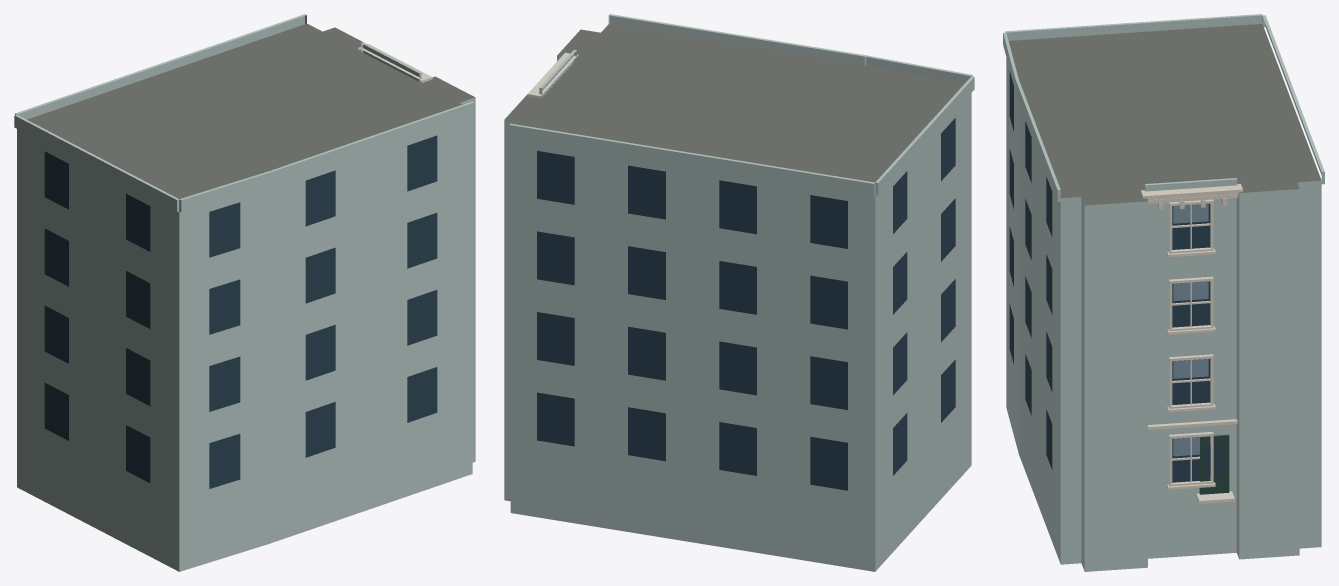
The picture shows the model from 3 angles, left to right: view 1: azimuth 30°, elevation 25°; view 2: azimuth 150°, elevation 25°; view 3: azimuth 270°, elevation 25°; orthographic projection. The views are drawn at different scales.
Visible parts, largest first — view 1: Footprint 0 / surface 2, Footprint 0 / surface 1, Inset glazing, Facade bay volumes; view 2: Footprint 0 / surface 2, Footprint 0 / surface 1, Inset glazing, Facade bay volumes; view 3: Footprint 0 / surface 2, Footprint 0 / surface 1, Inset glazing, Cornices and window frames, Facade bay volumes, Sky reflection panels, Storefronts and doors.
Part boxes in pixels (left/top/right/bottom): Footprint 0 / surface 2: left=17, top=97, right=475, bottom=571; Footprint 0 / surface 1: left=27, top=23, right=474, bottom=198; Inset glazing: left=44, top=135, right=437, bottom=488; Facade bay volumes: left=14, top=14, right=474, bottom=212; Footprint 0 / surface 2: left=504, top=56, right=971, bottom=571; Footprint 0 / surface 1: left=504, top=24, right=964, bottom=182; Inset glazing: left=537, top=118, right=955, bottom=490; Facade bay volumes: left=509, top=14, right=974, bottom=196; Footprint 0 / surface 2: left=1006, top=57, right=1321, bottom=571; Footprint 0 / surface 1: left=1008, top=24, right=1321, bottom=205; Inset glazing: left=1009, top=71, right=1223, bottom=482; Cornices and window frames: left=1141, top=183, right=1242, bottom=503; Facade bay volumes: left=1003, top=14, right=1324, bottom=201; Sky reflection panels: left=1173, top=204, right=1208, bottom=456; Storefronts and doors: left=1199, top=434, right=1229, bottom=494.
Bounding box in the file's own units: 16.15 × 15.42 × 11.99.
